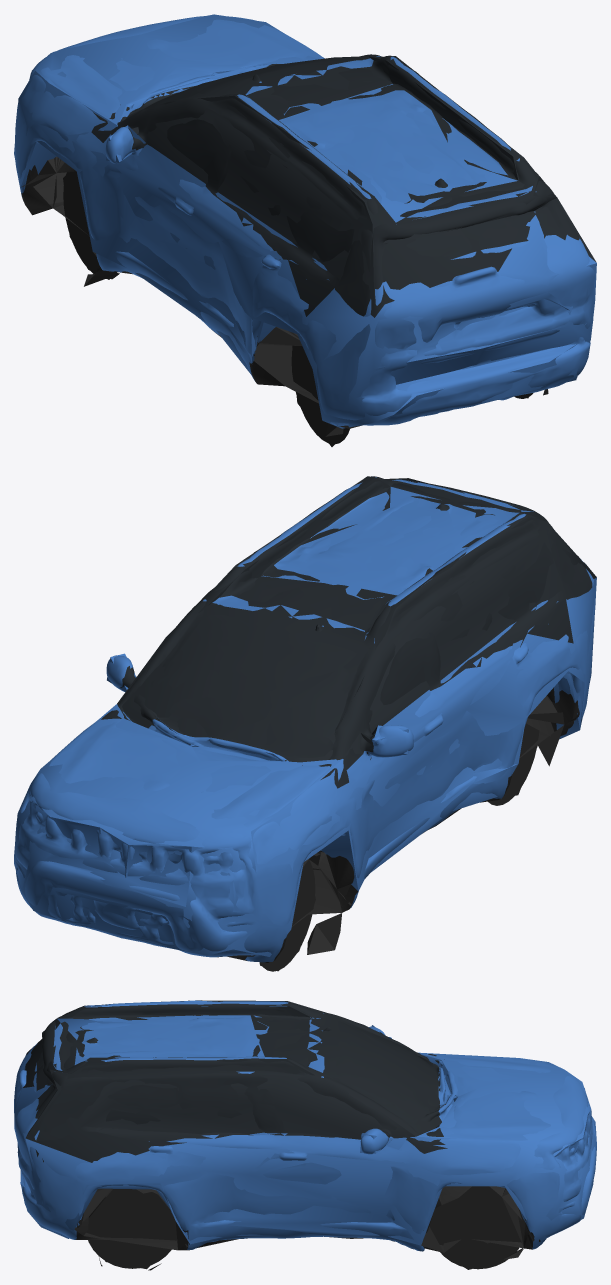
File: jeep-cherokee.glb
3 views of the same model, one above another, from view 1: azimuth 30°, elevation 25°; view 2: azimuth 150°, elevation 25°; view 3: azimuth 270°, elevation 25° (orthographic). The views are drawn at different scales.
Visible parts, largest first — view 1: body, far; view 2: body, far; view 3: body, far.
Part boxes in pixels (<box>): body: <box>15,16,594,443</box>; far: <box>14,14,596,446</box>; body: <box>15,476,595,971</box>; far: <box>14,476,596,971</box>; body: <box>14,1001,596,1270</box>; far: <box>14,1000,596,1269</box>.
Bounding box in the file's own units: 2.25 × 1.89 × 4.87.
